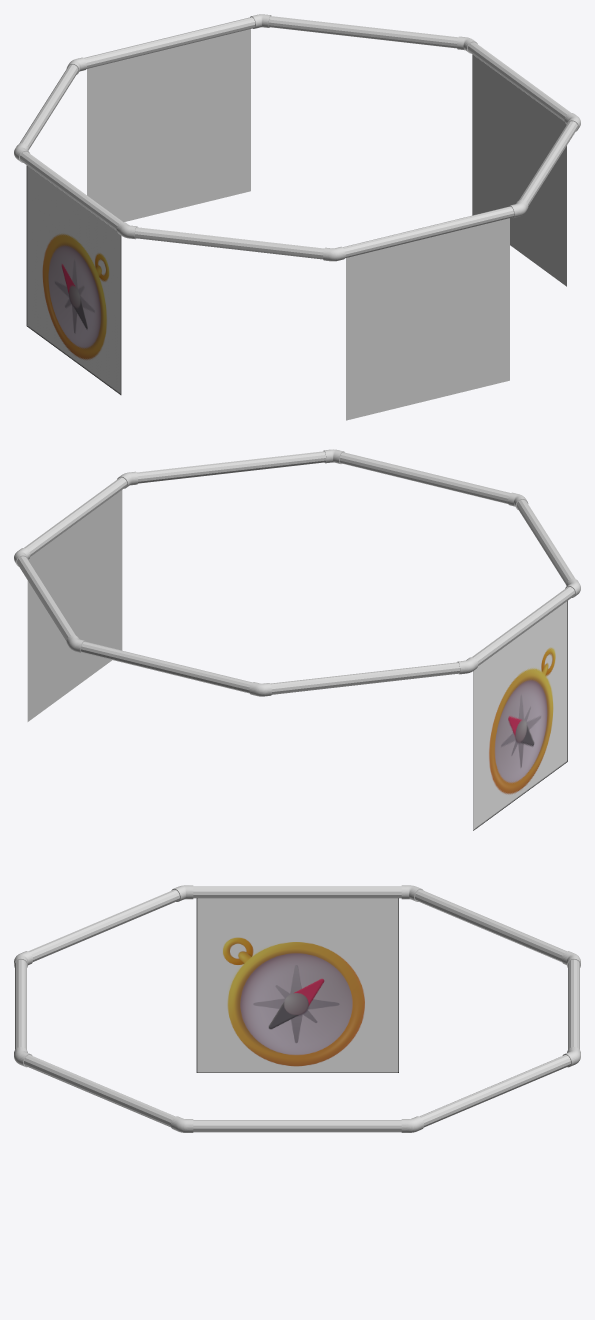
3 renders of one model, top to bottom at view 1: azimuth 30°, elevation 25°; view 2: azimuth 150°, elevation 25°; view 3: azimuth 270°, elevation 25°, orthographic. The views are drawn at different scales.
Parts seen in each view (by area): view 1: Plane.001, Plane, Plane.002, base_link, Plane.003; view 2: base_link, Plane.002, Plane.003; view 3: Plane.002, base_link.
Part boxes in pixels (x1=…): Plane.001: x1=346, y1=218, x2=509, y2=420; Plane: x1=87, y1=29, x2=250, y2=222; Plane.002: x1=26, y1=165, x2=121, y2=394; base_link: x1=14, y1=14, x2=580, y2=261; Plane.003: x1=472, y1=54, x2=566, y2=286; base_link: x1=14, y1=449, x2=580, y2=696; Plane.002: x1=473, y1=601, x2=567, y2=830; Plane.003: x1=27, y1=490, x2=122, y2=721; Plane.002: x1=196, y1=898, x2=398, y2=1072; base_link: x1=14, y1=885, x2=580, y2=1132.
Size of the model in its own units: 2.8 by 1.02 by 2.8.
1 material, 1 textured.
